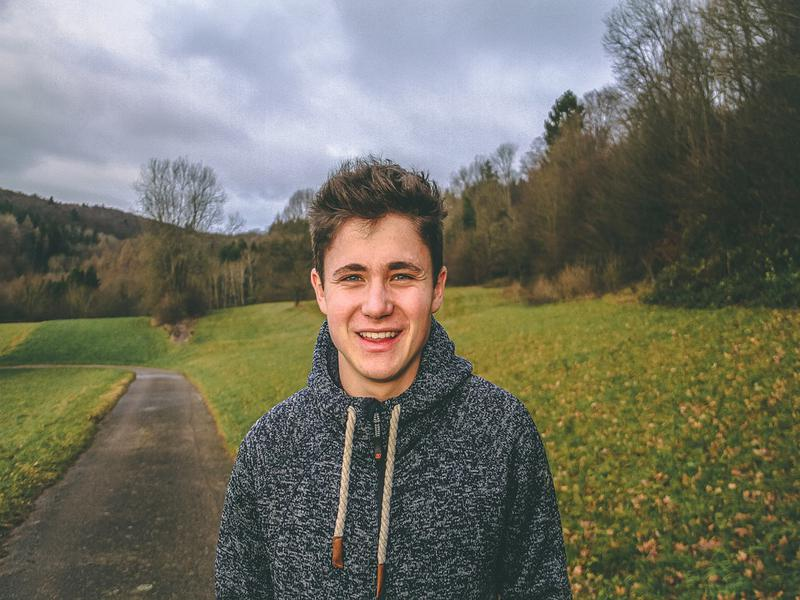human: (221, 163, 582, 599)
